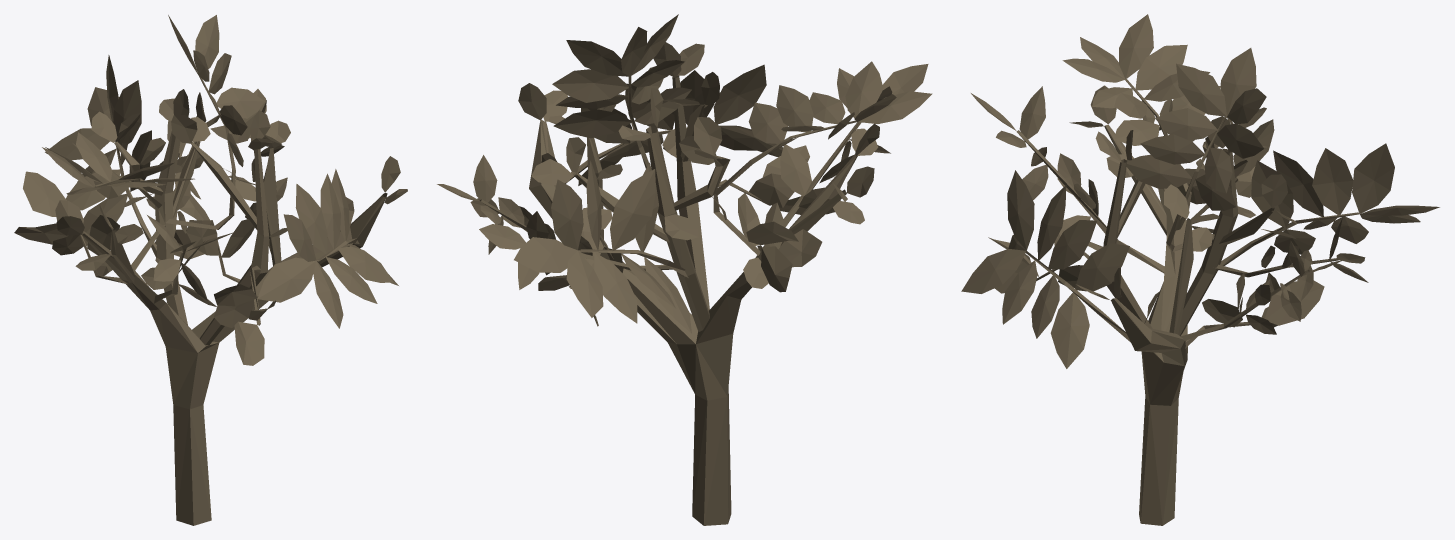
The model's file is Cherry_6_4.fbx.
3 renders of one model, left to right at view 1: azimuth 30°, elevation 25°; view 2: azimuth 150°, elevation 25°; view 3: azimuth 270°, elevation 25°, orthographic. The views are drawn at different scales.
Visible parts, largest first — view 1: Cherry_6_4; view 2: Cherry_6_4; view 3: Cherry_6_4.
Part boxes in pixels (<box>): Cherry_6_4: <box>14,15,407,525</box>; Cherry_6_4: <box>437,14,932,525</box>; Cherry_6_4: <box>961,14,1439,525</box>.
Bounding box in the file's own units: 270 × 345 × 311.
